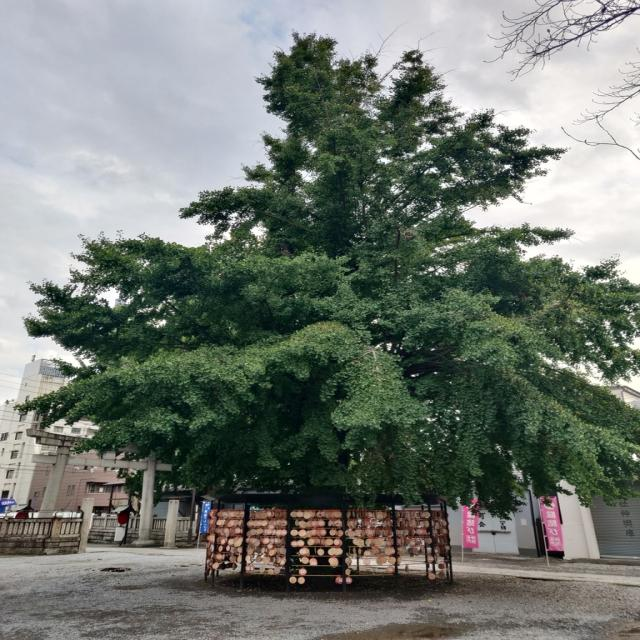ginkgo: (15, 27, 640, 592)
